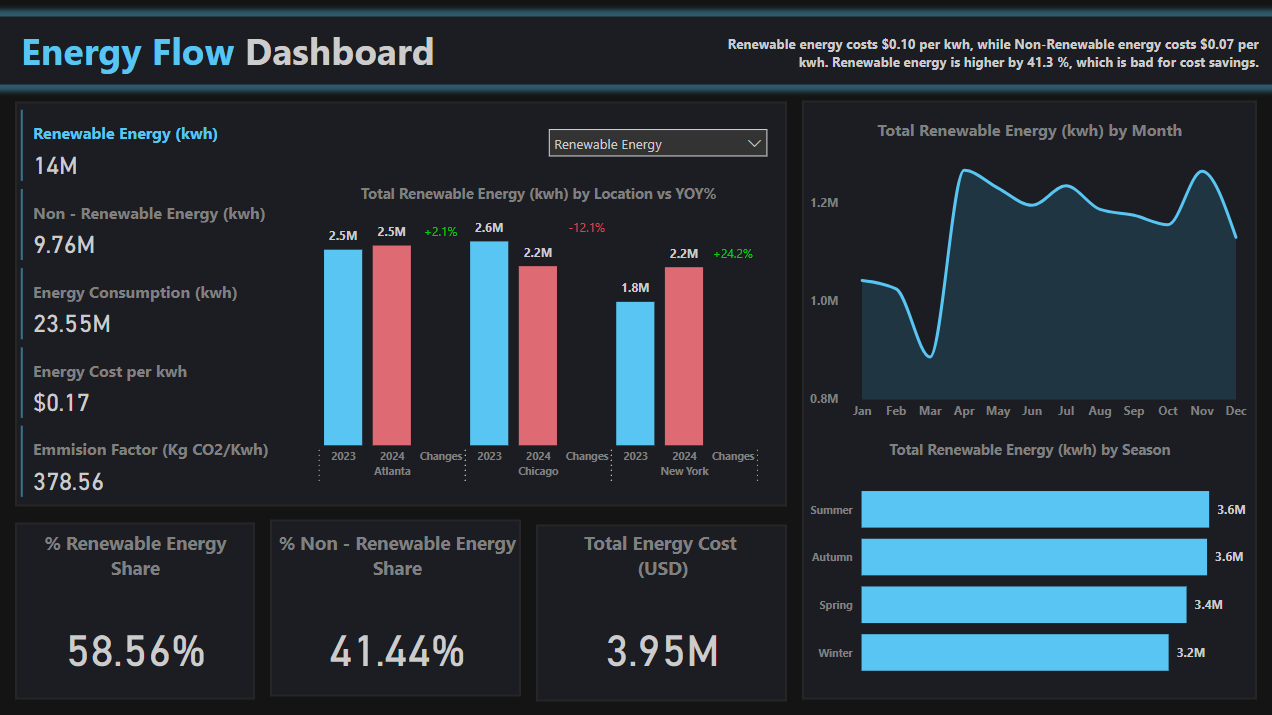

What the dashboard file says about the page in this screenshot:
{"tool":"powerbi","page":{"name":"Energy Dashboard","canvas":[1280,720],"ordinal":0},"visuals":[{"type":"cardVisual","fields":{"Data":["All Measures.Total Renewable Energy","All Measures.Total Non - Renewable Enerygy","All Measures.Total Energy Consumption","All Measures.Energy Cost per kwh","All Measures.Emmision Factor (Kg CO2/Kwh)"]},"box":[20,105,283.8,397.5],"z":0},{"type":"clusteredColumnChart","fields":{"Category":["Data.Location","Year.Year"],"Y":["Year.YOY Change"]},"box":[303.8,182.5,477.5,310],"z":1000},{"type":"slicer","fields":{"Values":["Switchable Measures.Switchable Measures"]},"box":[542.5,118.8,238.8,46.2],"z":3000},{"type":"cardVisual","fields":{"Data":["All Measures.% Renewable Energy Share"]},"box":[20,597.5,238.8,98.8],"z":4000},{"type":"textbox","box":[20,525,238.8,72.5],"z":5000},{"type":"textbox","box":[276.2,525,250,72.5],"z":6000},{"type":"cardVisual","fields":{"Data":["All Measures.% Non-Renewable Energy Share"]},"box":[276.2,597.5,250,98.8],"z":7000},{"type":"textbox","box":[542.5,525,248.8,72.5],"z":8000},{"type":"cardVisual","fields":{"Data":["All Measures.Energy Cost (USD)"]},"box":[542.5,597.5,248.8,98.8],"z":9000},{"type":"areaChart","fields":{"Category":["Calender.Month"],"Y":["Switchable Measures.Group Measures"]},"box":[808.8,118.8,450,310],"z":10000},{"type":"barChart","fields":{"Category":["Calender.Season"],"Y":["Switchable Measures.Group Measures"]},"box":[808.8,428.8,450,267.5],"z":11000},{"type":"textbox","box":[20,20,542.5,61.2],"z":12000},{"type":"cardVisual","fields":{"Data":["All Measures.Energy Cost Summary"]},"box":[703.8,10,576.2,82.5],"z":13000}]}

Visuals, with their boxes in screenshot pixels (x1, y1, x2, y2), scaled from the page's 1280x720 canvas onto the 1272x715 screenshot:
cardVisual - All Measures.Total Renewable Energy x All Measures.Total Non - Renewable Enerygy: box=[20, 104, 302, 499]
clusteredColumnChart - Data.Location x Year.Year: box=[302, 181, 776, 489]
slicer - Switchable Measures.Switchable Measures: box=[539, 118, 776, 164]
cardVisual - All Measures.% Renewable Energy Share: box=[20, 593, 257, 691]
textbox: box=[20, 521, 257, 593]
textbox: box=[274, 521, 523, 593]
cardVisual - All Measures.% Non-Renewable Energy Share: box=[274, 593, 523, 691]
textbox: box=[539, 521, 786, 593]
cardVisual - All Measures.Energy Cost (USD): box=[539, 593, 786, 691]
areaChart - Calender.Month x Switchable Measures.Group Measures: box=[804, 118, 1251, 426]
barChart - Calender.Season x Switchable Measures.Group Measures: box=[804, 426, 1251, 691]
textbox: box=[20, 20, 559, 81]
cardVisual - All Measures.Energy Cost Summary: box=[699, 10, 1271, 92]
